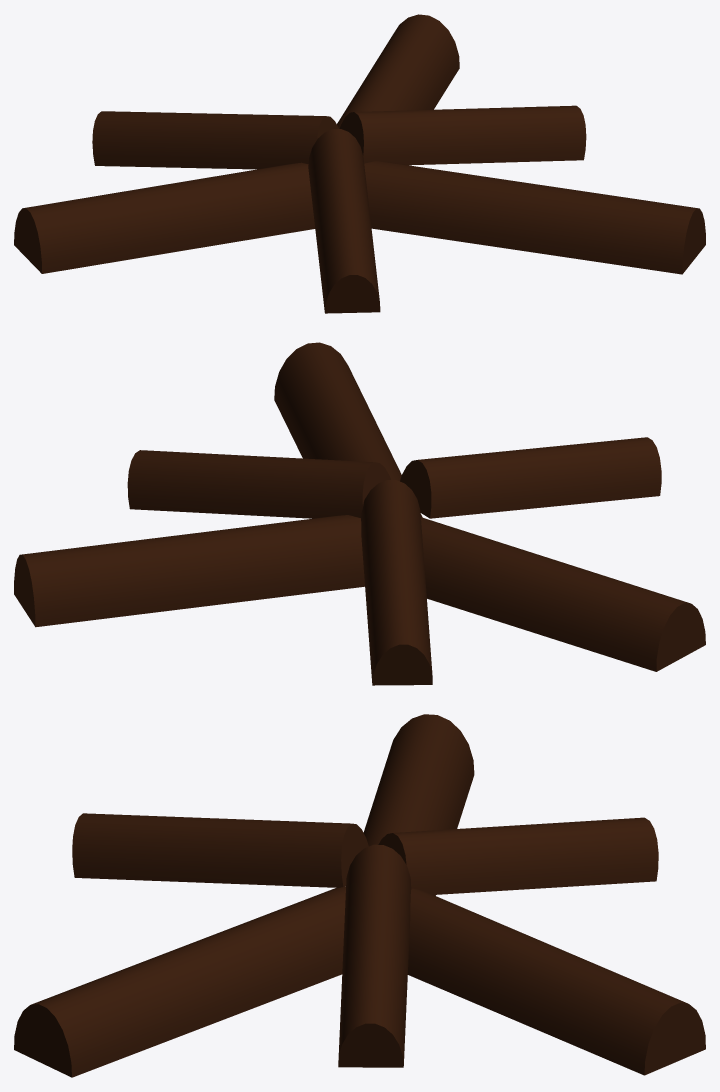
The model's file is wood.FBX.
3 views of the same model, one above another, from view 1: azimuth 30°, elevation 25°; view 2: azimuth 150°, elevation 25°; view 3: azimuth 270°, elevation 25° (orthographic). The views are drawn at different scales.
Visible parts, largest first — view 1: Cylinder002, Cylinder001, Cylinder004, Cylinder005, Cylinder006, Cylinder003; view 2: Cylinder003, Cylinder001, Cylinder006, Cylinder004, Cylinder005, Cylinder002; view 3: Cylinder002, Cylinder003, Cylinder006, Cylinder005, Cylinder004, Cylinder001.
Part boxes in pixels (x1,y1,x2,y2): Cylinder002: (364,161,705,274); Cylinder001: (14,162,315,273); Cylinder004: (339,105,586,165); Cylinder005: (92,111,338,169); Cylinder006: (308,129,380,313); Cylinder003: (337,14,459,128); Cylinder003: (14,515,364,627); Cylinder001: (421,517,705,671); Cylinder006: (400,437,661,518); Cylinder004: (127,450,390,518); Cylinder005: (361,480,432,685); Cylinder002: (274,342,422,517); Cylinder002: (14,886,345,1077); Cylinder003: (408,888,705,1075); Cylinder006: (72,813,368,887); Cylinder005: (378,817,658,894); Cylinder004: (338,844,411,1067); Cylinder001: (363,714,474,895).
Size of the model in its own units: 16.11 by 2.65 by 15.43.
